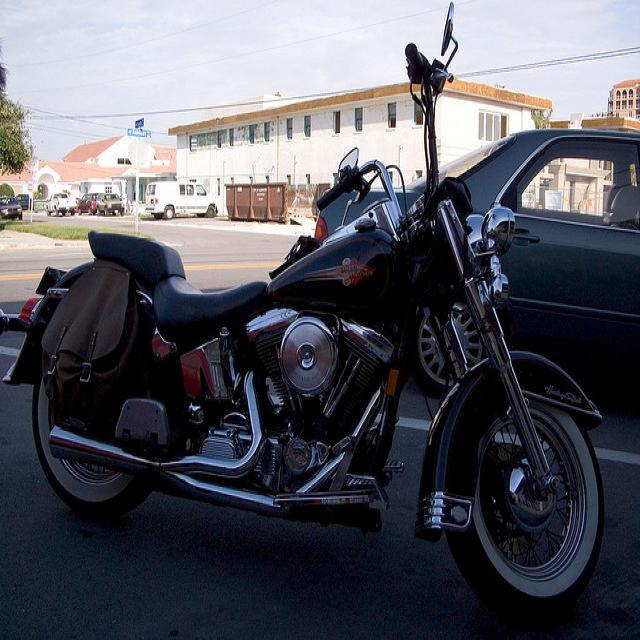motor: (0, 3, 613, 620)
